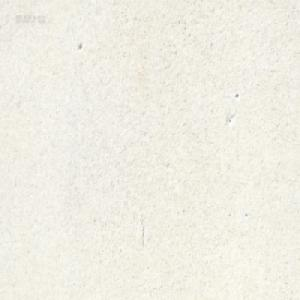Wrench: (147, 0, 154, 4)
